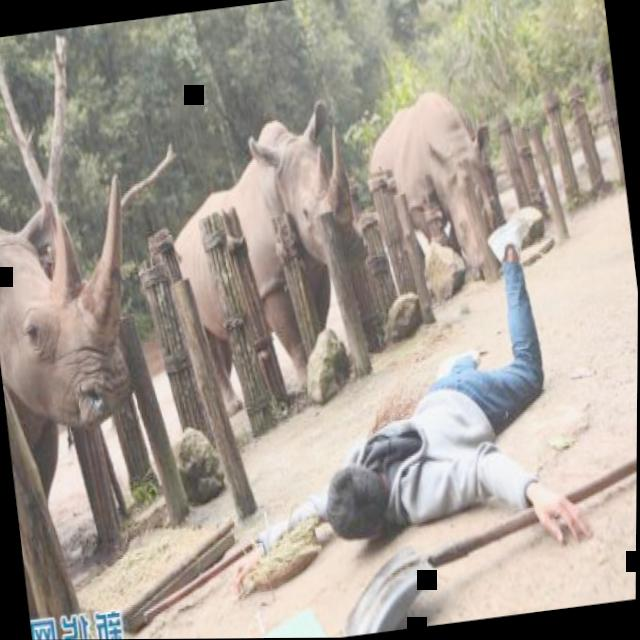Fall-Detected: (177, 179, 614, 613)
